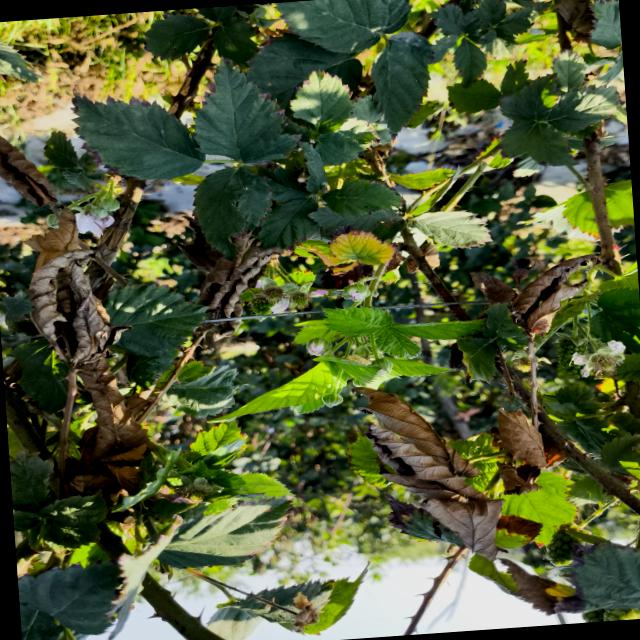boton: (342, 283, 369, 301), (370, 357, 393, 376), (307, 337, 330, 356), (321, 392, 343, 407)
